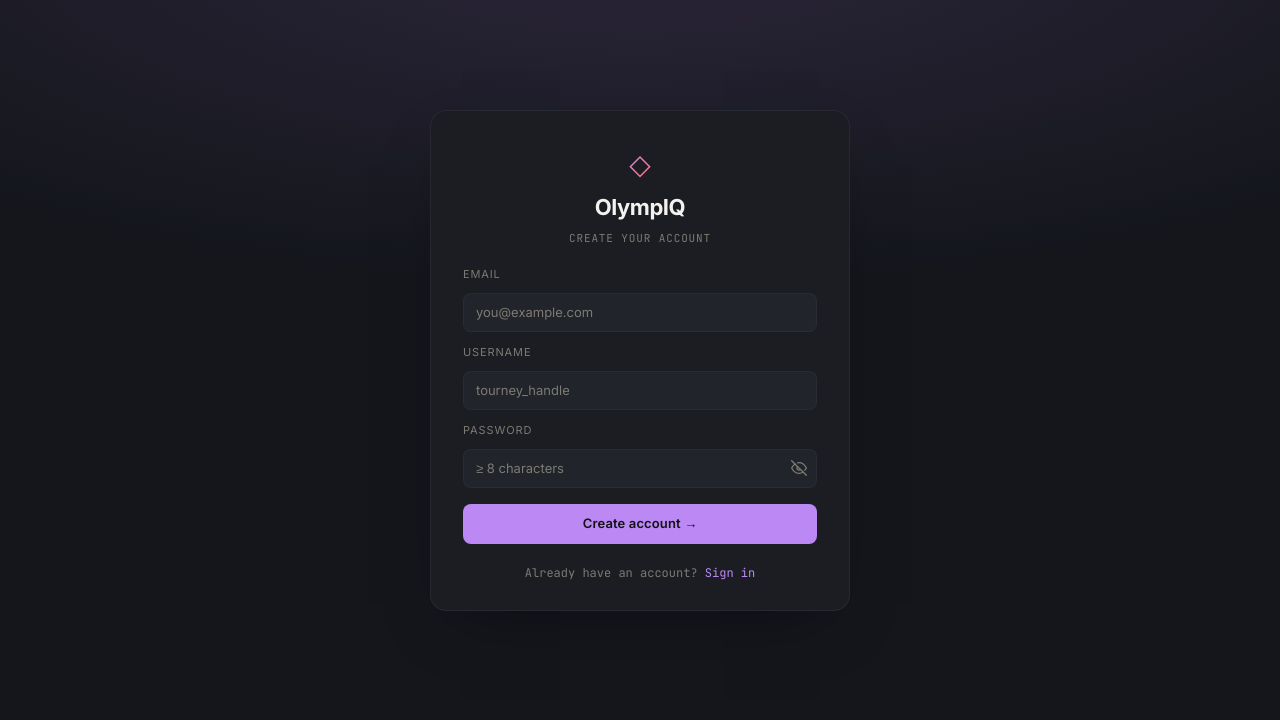
Test case: shows a friendly username error before submitting
Type "kair@gmail.com" into the field labelled "Email" at (640, 312), box top-left (463, 292), bottom-right (817, 332)
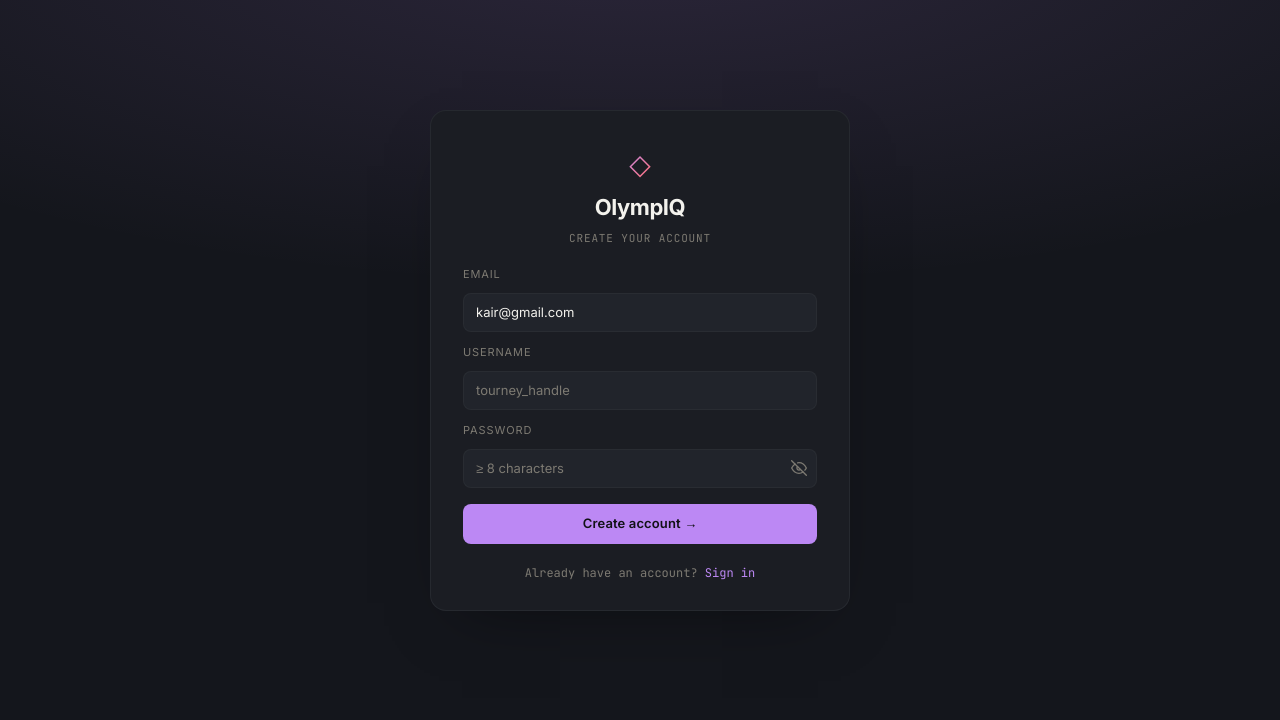
Type "kair@gmail.com" into the field labelled "Username" at (640, 390), box top-left (463, 370), bottom-right (817, 410)
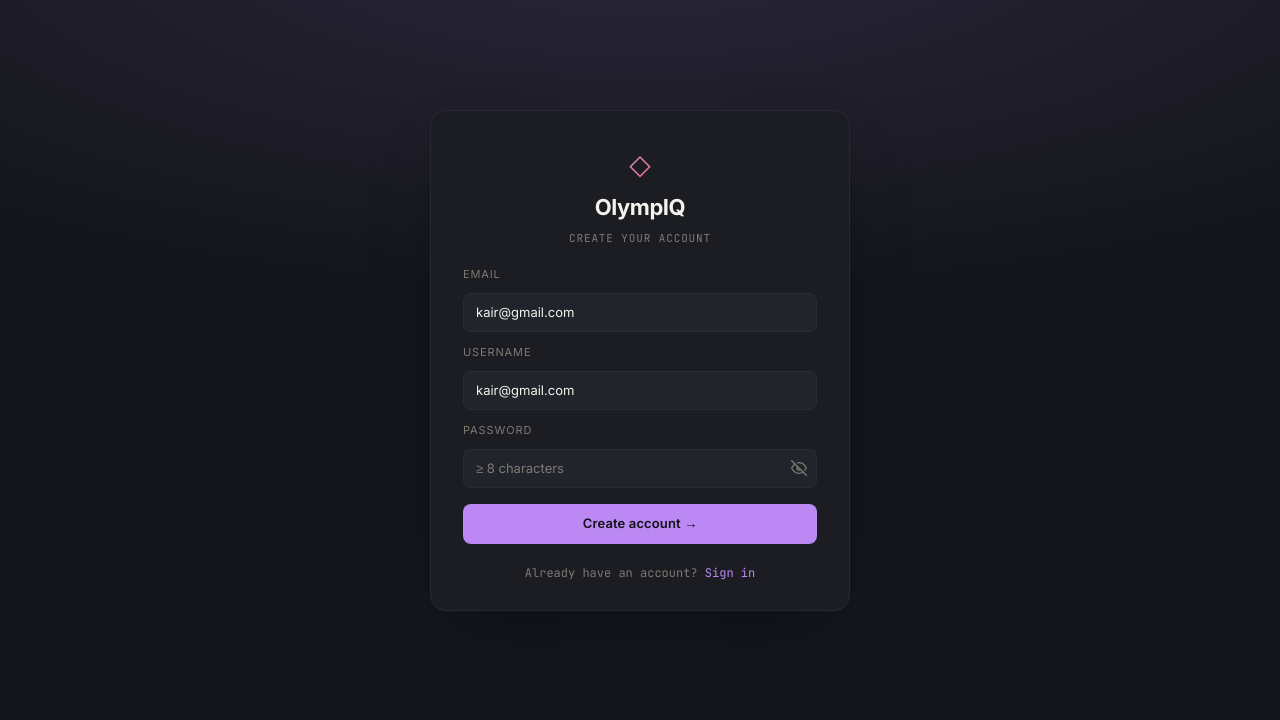
Type "password123" into the password field labelled "Password" at (640, 468), box top-left (463, 448), bottom-right (817, 488)
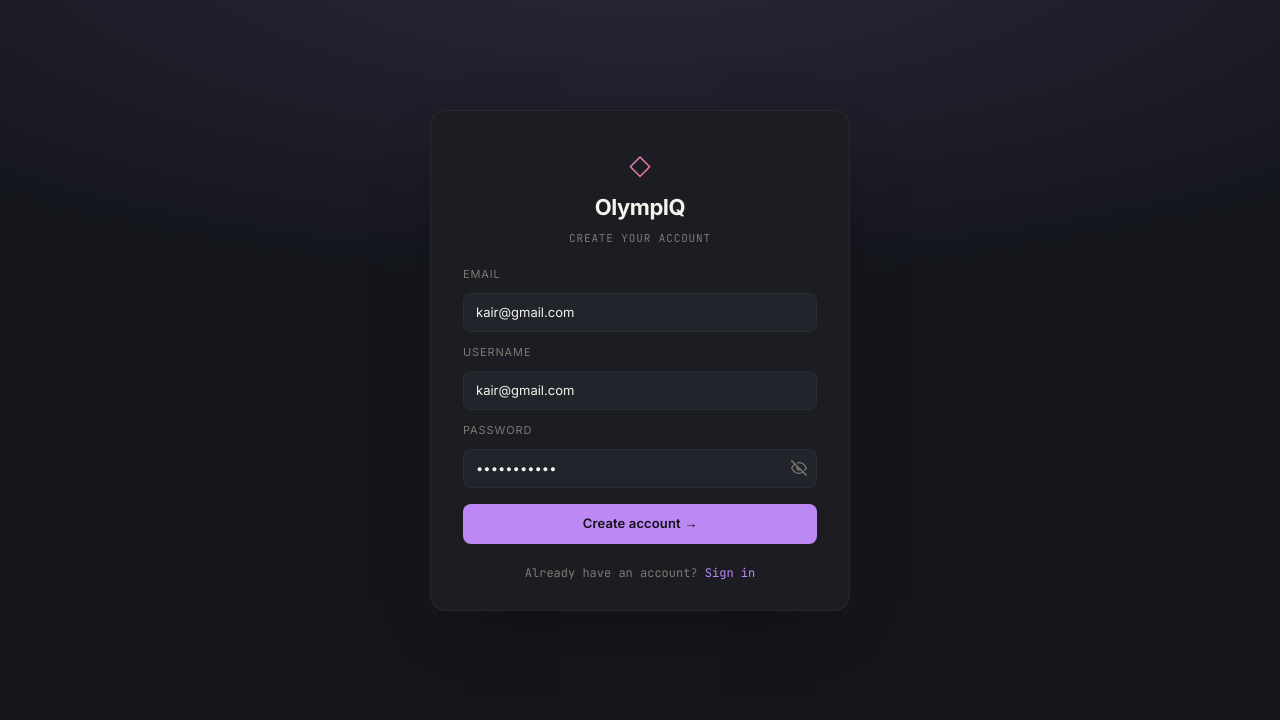
Submit the form "Email Username Password Create account →", box top-left (463, 266), bottom-right (817, 544)
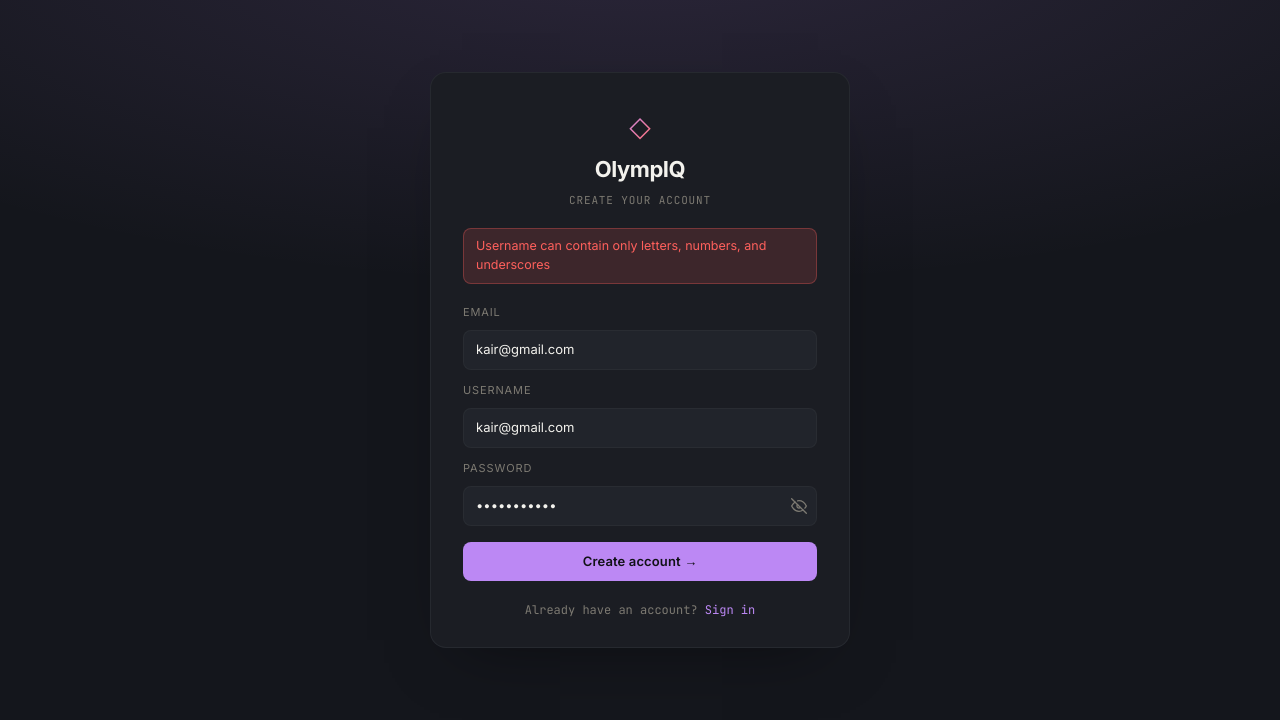
Expected: the text "Username can contain only letters, numbers, and underscores" is shown, top-left (463, 228), bottom-right (817, 284)
